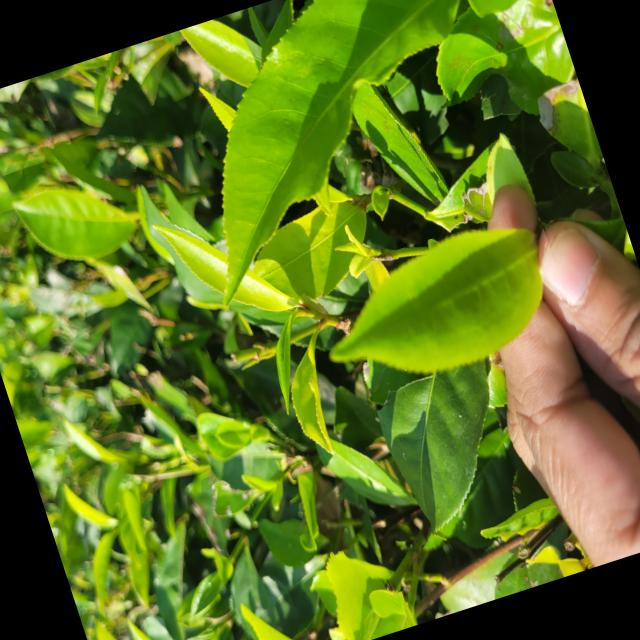Catagory A(1-2 days): (299, 204, 583, 427)
